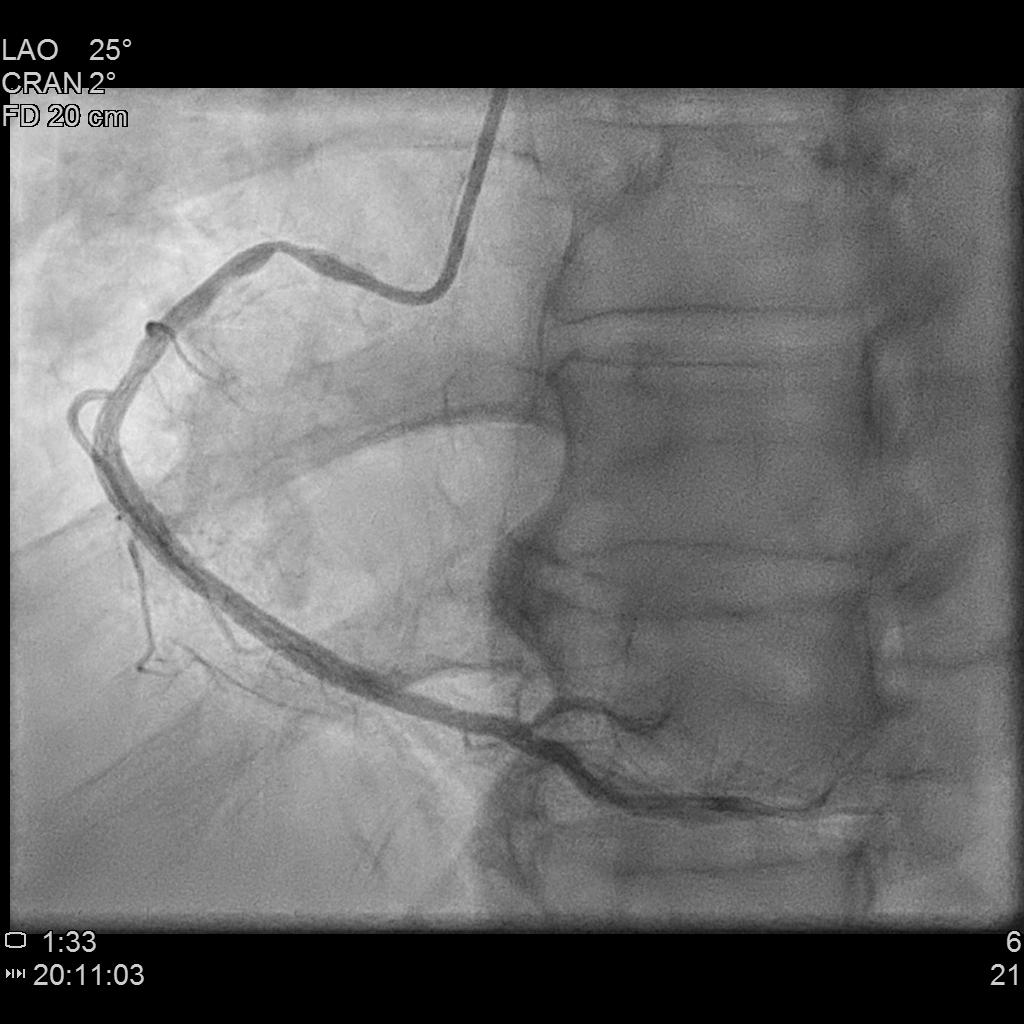block: (188, 187, 377, 333)
